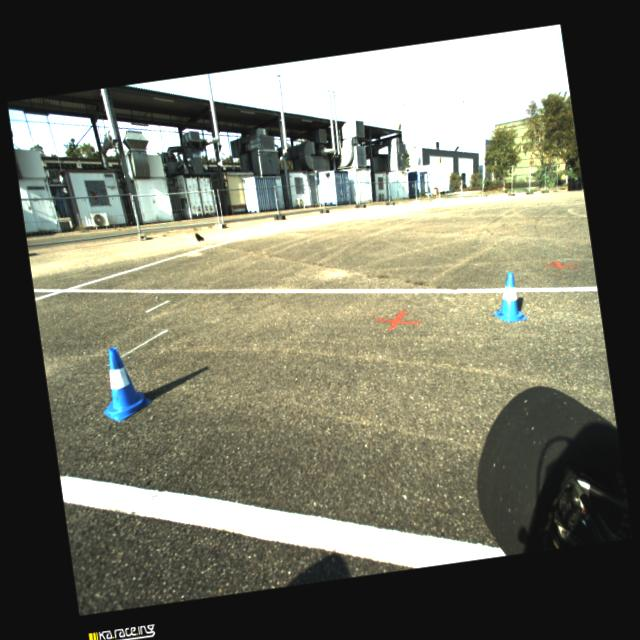blue_cone: (94, 344, 154, 424), (487, 270, 528, 324)
